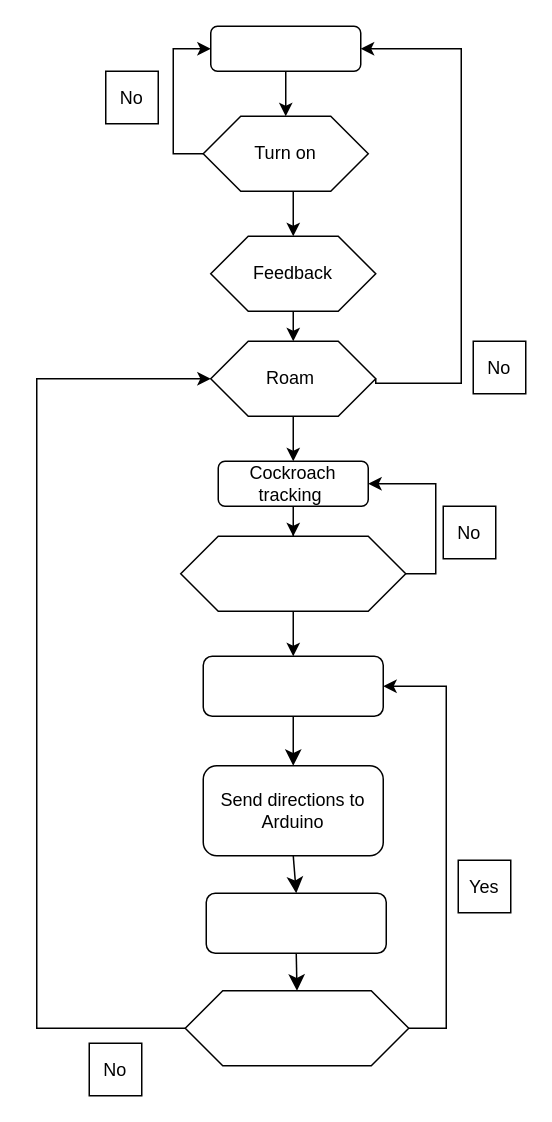
Image size: 552x1122. Some labels were removed from this diagram. Each missing label, with the centre of its shape:
"Calculate direction through raspberry pi" belongs at pixel 292 685.
"Is cockroach still there" belongs at pixel 296 1027.
"Is the cockroach detected?" belongs at pixel 292 573.
"Start" belongs at pixel 285 48.
"Turn on laser" belongs at pixel 295 922.
